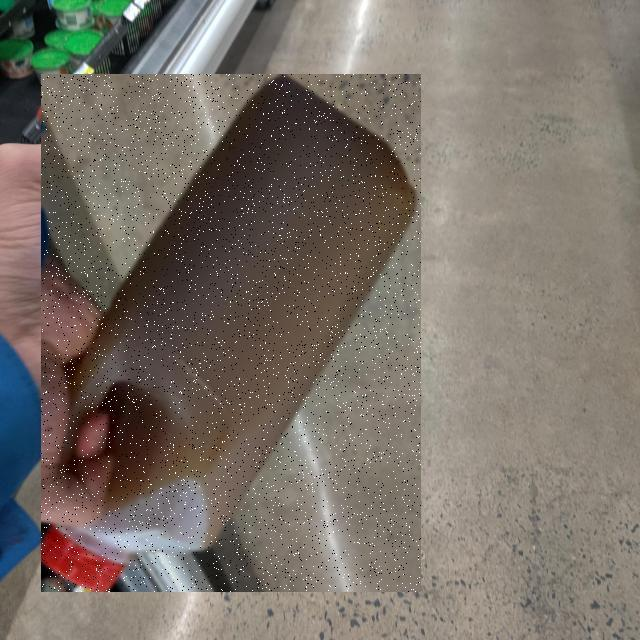Juice: (41, 74, 421, 592)
